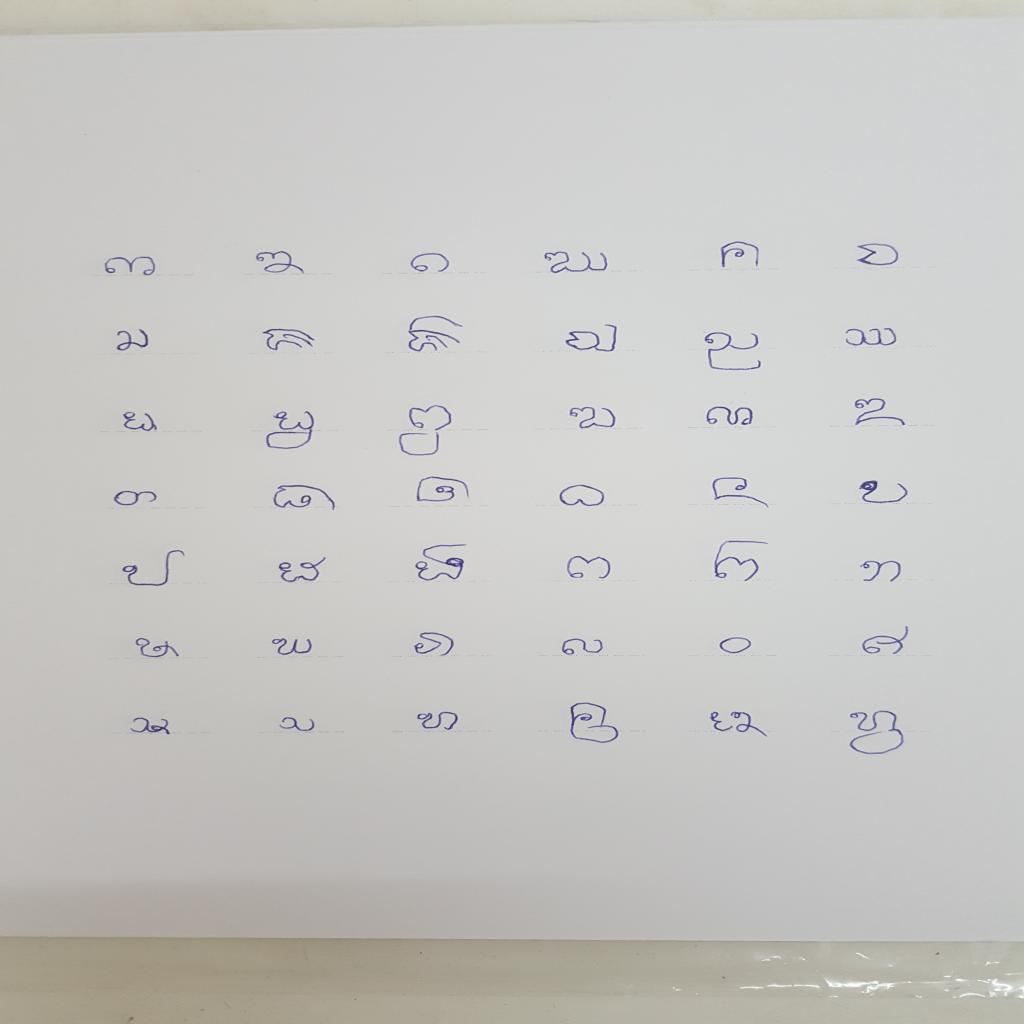LN001: (99, 255, 162, 279)
LN002: (250, 249, 313, 278)
LN003: (405, 251, 456, 277)
LN004: (540, 250, 615, 276)
LN005: (715, 239, 768, 273)
LN006: (850, 241, 905, 270)
LN007: (111, 327, 156, 356)
LN008: (258, 326, 322, 355)
LN009: (404, 313, 469, 356)
LN010: (562, 322, 624, 356)
LN011: (701, 330, 768, 374)
LN012: (839, 326, 903, 349)
LN016: (565, 405, 622, 434)
LN017: (703, 405, 760, 430)
LN018: (850, 397, 912, 431)
LN020: (268, 483, 343, 516)
LN021: (412, 475, 476, 506)
LN022: (556, 483, 610, 511)
LN023: (707, 474, 775, 513)
LN025: (119, 548, 191, 590)
LN026: (276, 554, 334, 586)
LN028: (562, 553, 617, 584)
LN029: (710, 538, 776, 586)
LN030: (856, 559, 908, 587)
LN031: (130, 636, 186, 661)
LN033: (408, 630, 460, 661)
LN034: (558, 637, 609, 659)
LN035: (715, 635, 757, 657)
LN036: (858, 624, 915, 659)
LN039: (410, 709, 464, 734)
LN040: (564, 699, 624, 747)
LN041: (706, 708, 773, 741)
LN042: (844, 708, 910, 758)
